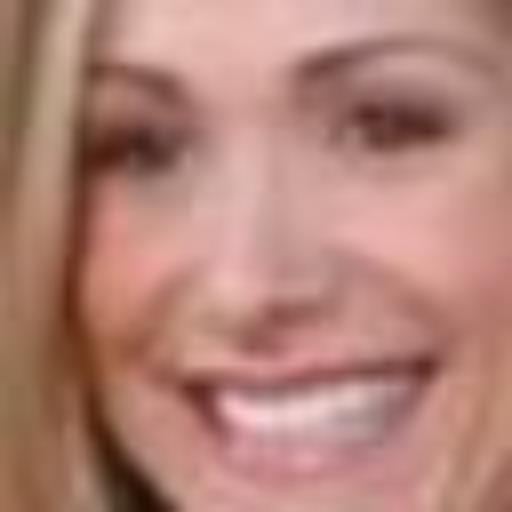left_eye: (330, 99, 451, 162)
left_lip_corner: (411, 347, 452, 379)
right_eye: (85, 123, 191, 182)
right_lip_corner: (160, 367, 221, 417)
